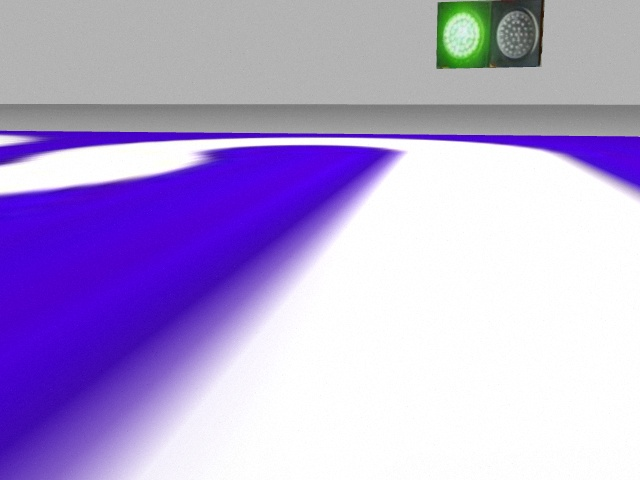green: (437, 3, 493, 67)
